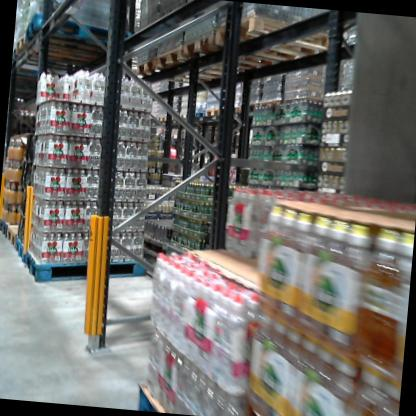pallet: (21, 229, 159, 300), (211, 11, 339, 80), (182, 20, 321, 81), (24, 10, 137, 65), (130, 56, 245, 92), (154, 44, 240, 92), (16, 32, 127, 68), (128, 382, 192, 412), (5, 222, 46, 251), (250, 95, 281, 113), (13, 235, 29, 266), (0, 216, 13, 239), (241, 101, 260, 116), (206, 105, 226, 118), (190, 107, 205, 119), (167, 112, 179, 124), (155, 114, 168, 124)
